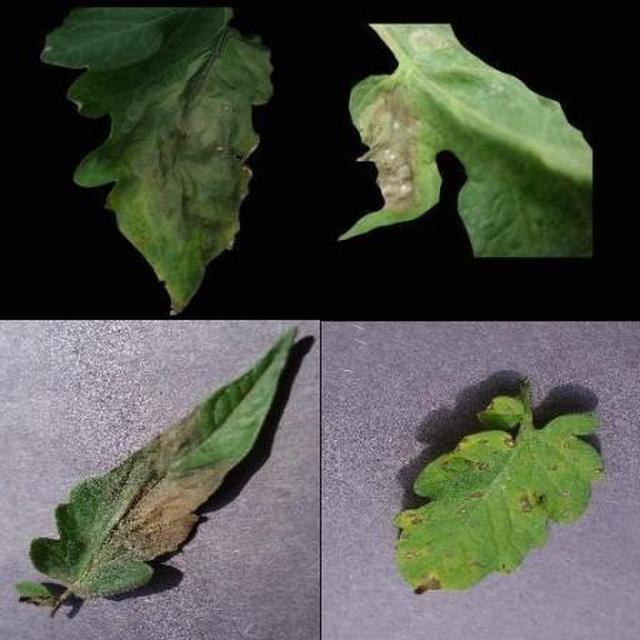Late Blight Leaf: (227, 202, 640, 640)
